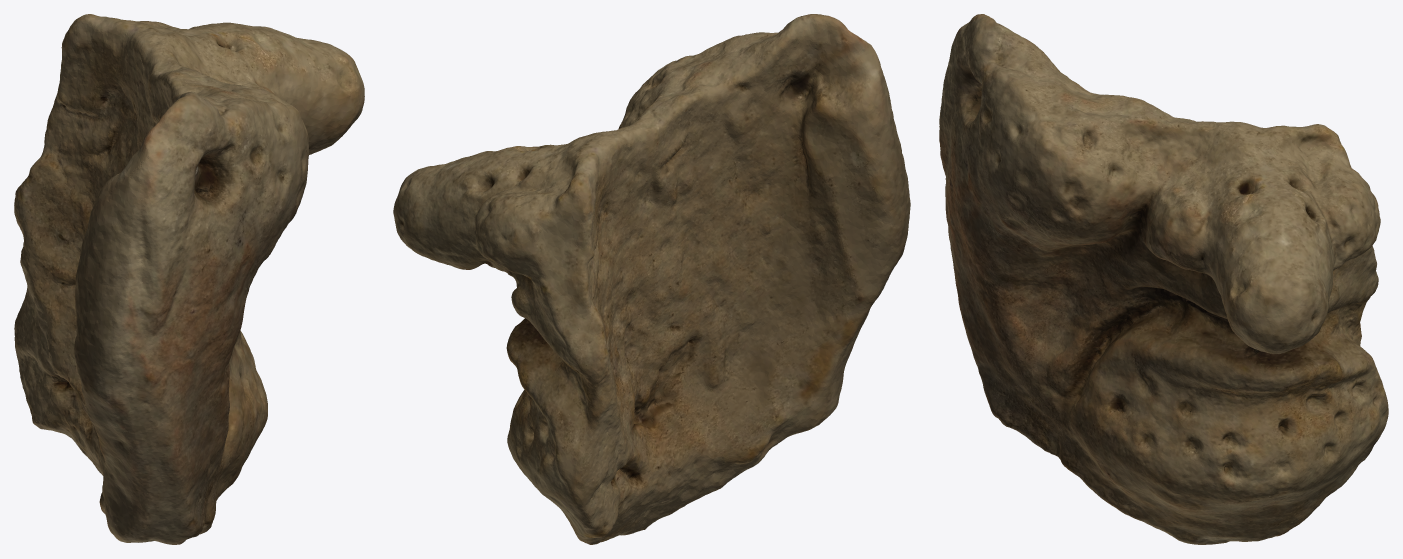
3 views of the same model, side by side, from view 1: azimuth 30°, elevation 25°; view 2: azimuth 150°, elevation 25°; view 3: azimuth 270°, elevation 25° (orthographic). The views are drawn at different scales.
Visible parts, largest first — view 1: Mesh_0.009; view 2: Mesh_0.009; view 3: Mesh_0.009.
Part boxes in pixels (box(x1,y1,x2,y2)): Mesh_0.009: box(14, 14, 364, 544); Mesh_0.009: box(393, 14, 910, 544); Mesh_0.009: box(939, 14, 1388, 544).
Size of the model in its own units: 0.0667 by 0.0801 by 0.0672.
Materials: 1 (1 with a texture image).
